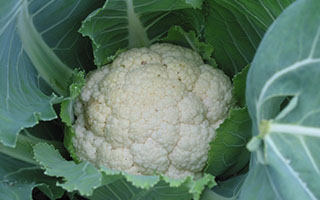cauliflower: (65, 42, 235, 182)
